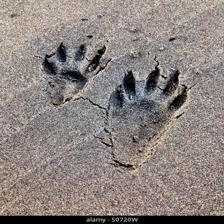raccoon: (105, 64, 192, 170), (40, 40, 109, 106)
